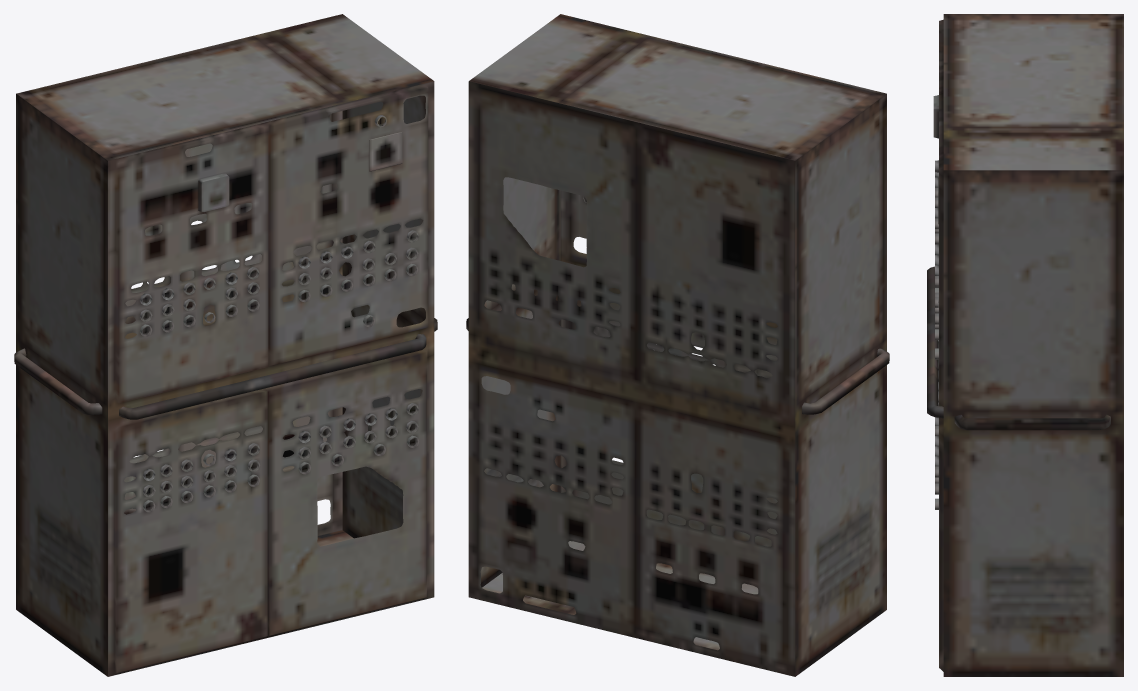
File: sm22_011_switchboard01a.fbx
3 views of the same model, side by side, from view 1: azimuth 30°, elevation 25°; view 2: azimuth 150°, elevation 25°; view 3: azimuth 270°, elevation 25° (orthographic).
Parts seen in each view (by area): view 1: LOD_1_Group_0_Sub_1__sm22_011_Switchboard01A_A_Mat, LOD_1_Group_2_Sub_1__sm22_011_Switchboard01A_A_Mat, LOD_1_Group_1_Sub_1__sm22_011_Switchboard01A_A_Mat; view 2: LOD_1_Group_0_Sub_1__sm22_011_Switchboard01A_A_Mat, LOD_1_Group_1_Sub_1__sm22_011_Switchboard01A_A_Mat; view 3: LOD_1_Group_0_Sub_1__sm22_011_Switchboard01A_A_Mat, LOD_1_Group_1_Sub_1__sm22_011_Switchboard01A_A_Mat, LOD_1_Group_2_Sub_1__sm22_011_Switchboard01A_A_Mat.
Boxes of the visible parts, x1,y1,x2,y2 form: LOD_1_Group_0_Sub_1__sm22_011_Switchboard01A_A_Mat: (16, 14, 434, 676); LOD_1_Group_2_Sub_1__sm22_011_Switchboard01A_A_Mat: (139, 115, 419, 512); LOD_1_Group_1_Sub_1__sm22_011_Switchboard01A_A_Mat: (14, 270, 437, 419); LOD_1_Group_0_Sub_1__sm22_011_Switchboard01A_A_Mat: (468, 14, 886, 676); LOD_1_Group_1_Sub_1__sm22_011_Switchboard01A_A_Mat: (466, 318, 889, 414); LOD_1_Group_0_Sub_1__sm22_011_Switchboard01A_A_Mat: (939, 14, 1123, 676); LOD_1_Group_1_Sub_1__sm22_011_Switchboard01A_A_Mat: (927, 266, 1110, 430); LOD_1_Group_2_Sub_1__sm22_011_Switchboard01A_A_Mat: (933, 95, 938, 509).
Bounding box in the file's own units: 0.8631 × 1.2 × 0.4416.
